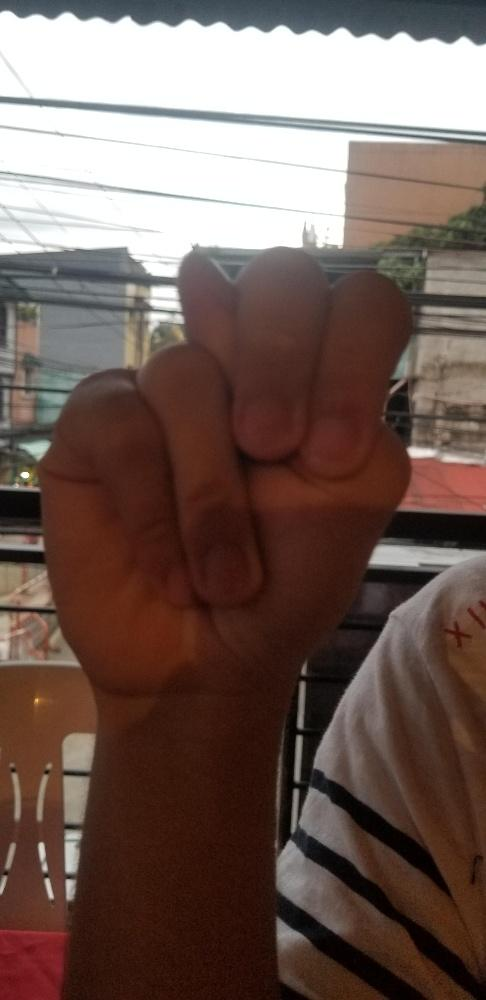n: (40, 237, 414, 692)
